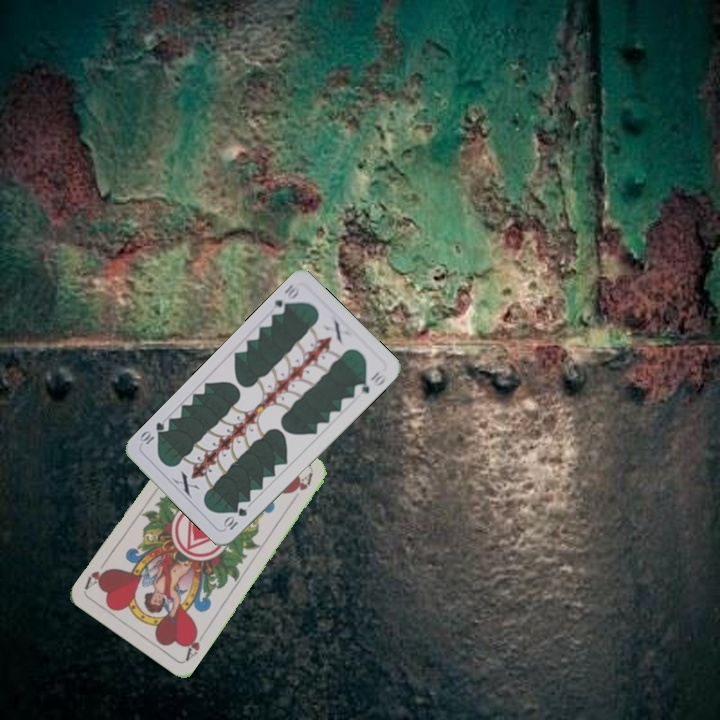G10: (270, 280, 302, 318), (220, 504, 250, 533)
HA: (181, 626, 208, 664)
